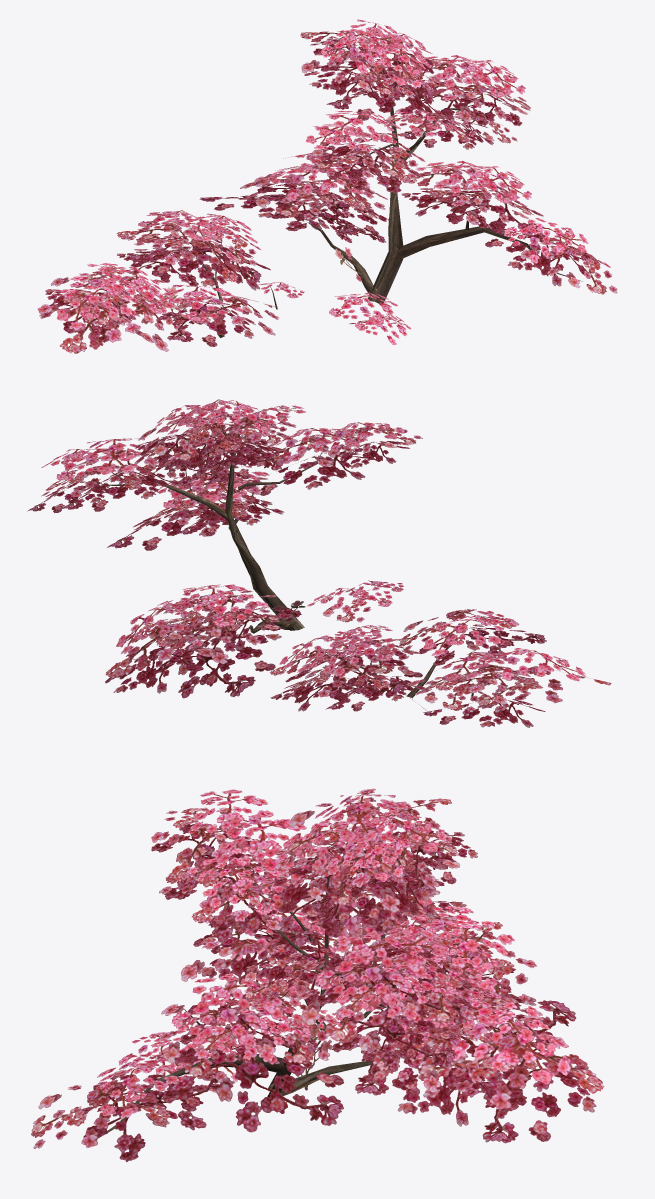
Rendered from S_Tree_Red002_H8.FBX.
The picture shows the model from 3 angles, top to bottom: view 1: azimuth 30°, elevation 25°; view 2: azimuth 150°, elevation 25°; view 3: azimuth 270°, elevation 25°; orthographic projection. The views are drawn at different scales.
Parts seen in each view (by area): view 1: S_Tree_Red002_H8_2, S_Tree_Red002_H8_1; view 2: S_Tree_Red002_H8_2, S_Tree_Red002_H8_1; view 3: S_Tree_Red002_H8_2, S_Tree_Red002_H8_1.
Boxes of the visible parts, <box> form: S_Tree_Red002_H8_2: <box>37,19,617,353</box>; S_Tree_Red002_H8_1: <box>100,82,582,337</box>; S_Tree_Red002_H8_2: <box>27,399,611,727</box>; S_Tree_Red002_H8_1: <box>103,430,473,698</box>; S_Tree_Red002_H8_2: <box>31,788,604,1161</box>; S_Tree_Red002_H8_1: <box>98,874,437,1138</box>.
Bounding box in the file's own units: 717 × 332 × 552.
2 materials, 2 textured.
